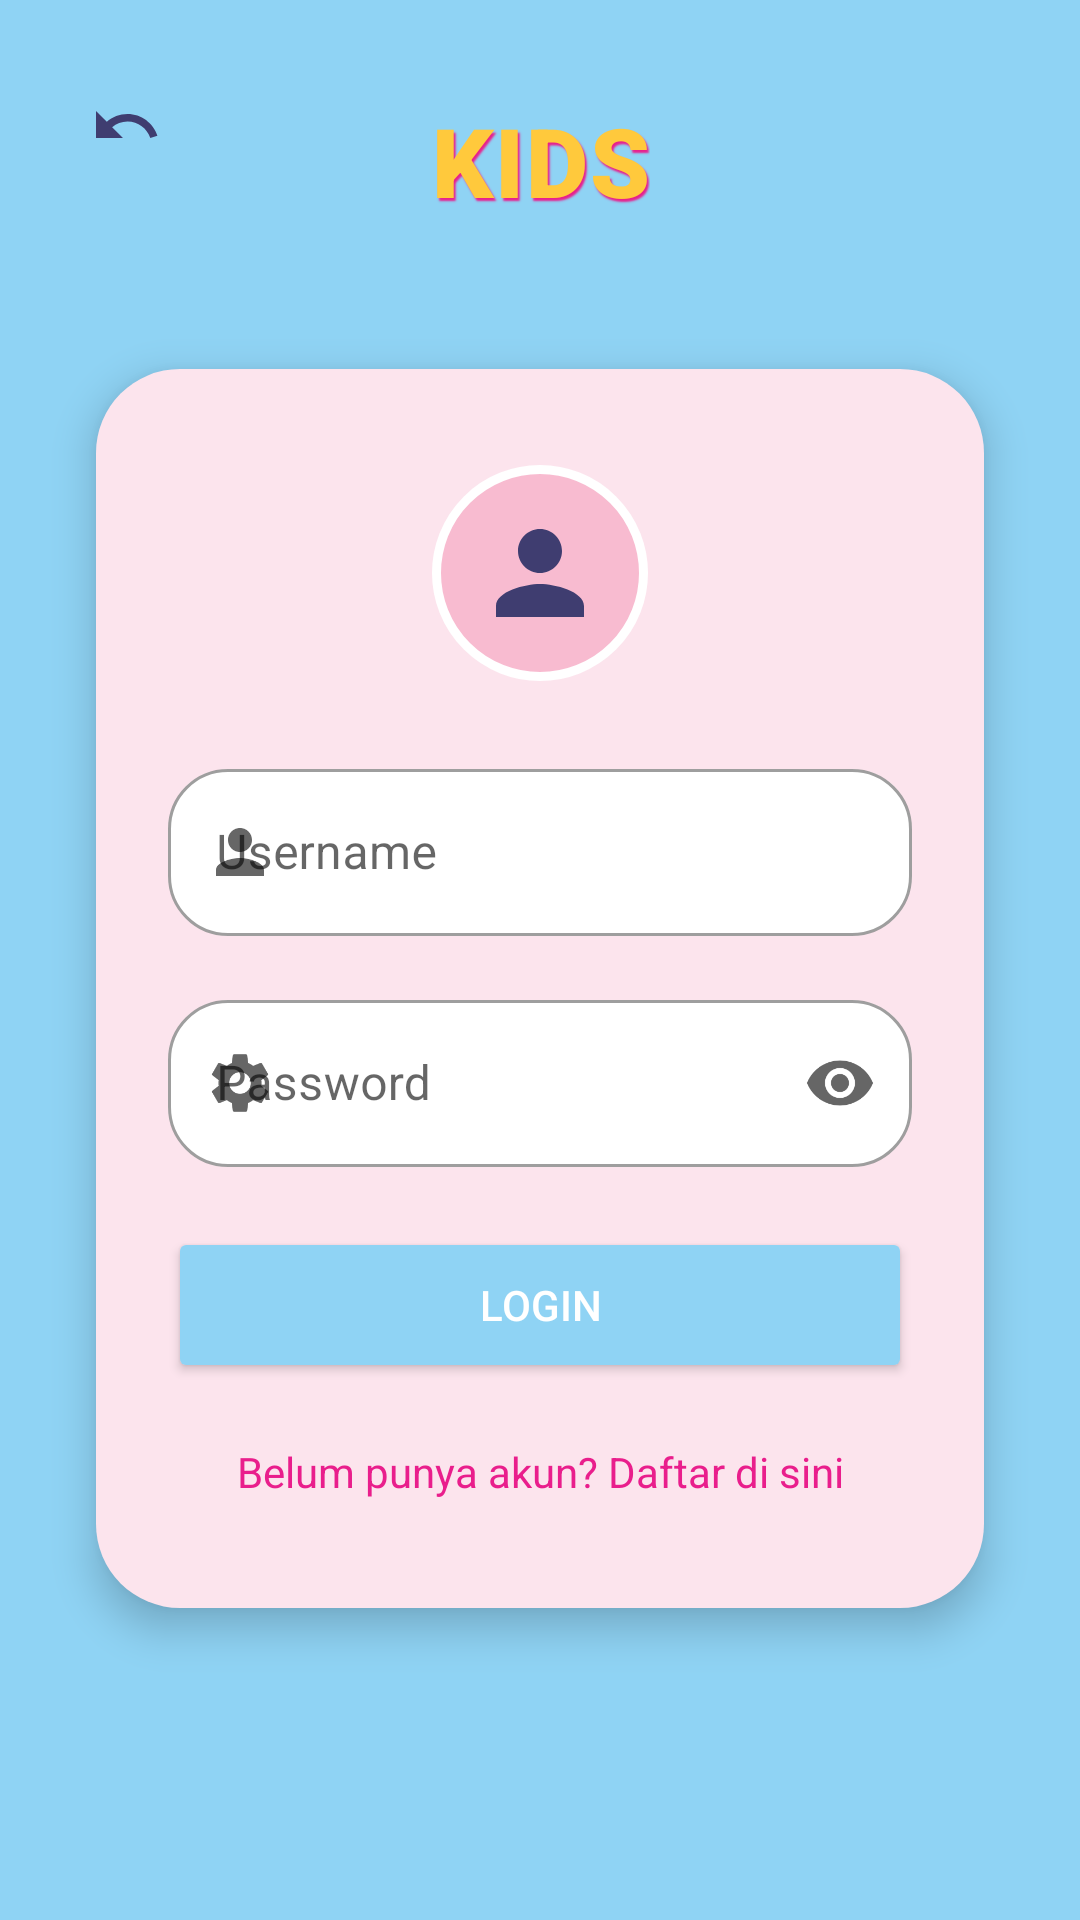

Where to tap for icons on this 1080×1920 app screen, as [x,y]:
person: [540,573]
Sebelumnya: [127,124]
